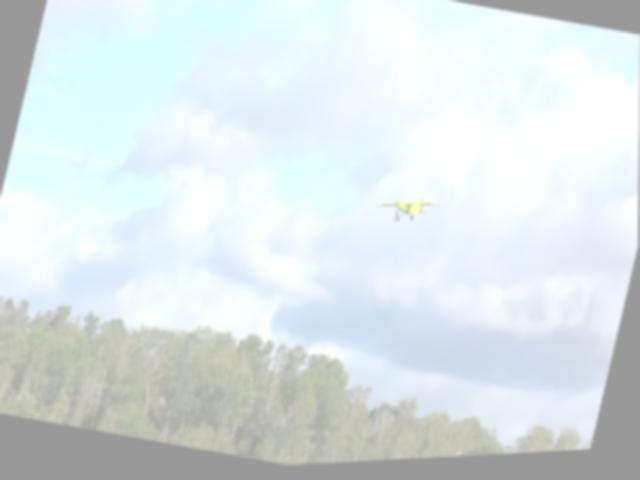plane: (374, 193, 440, 234)
